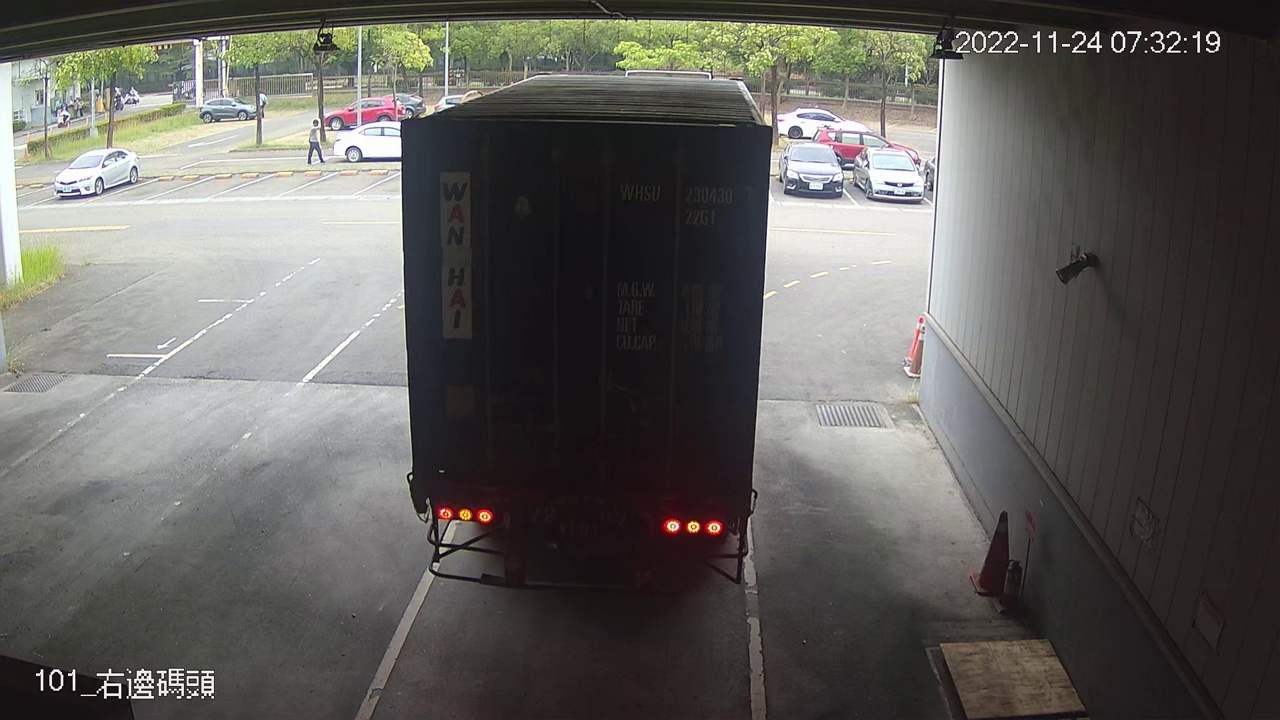container: (613, 175, 758, 232)
